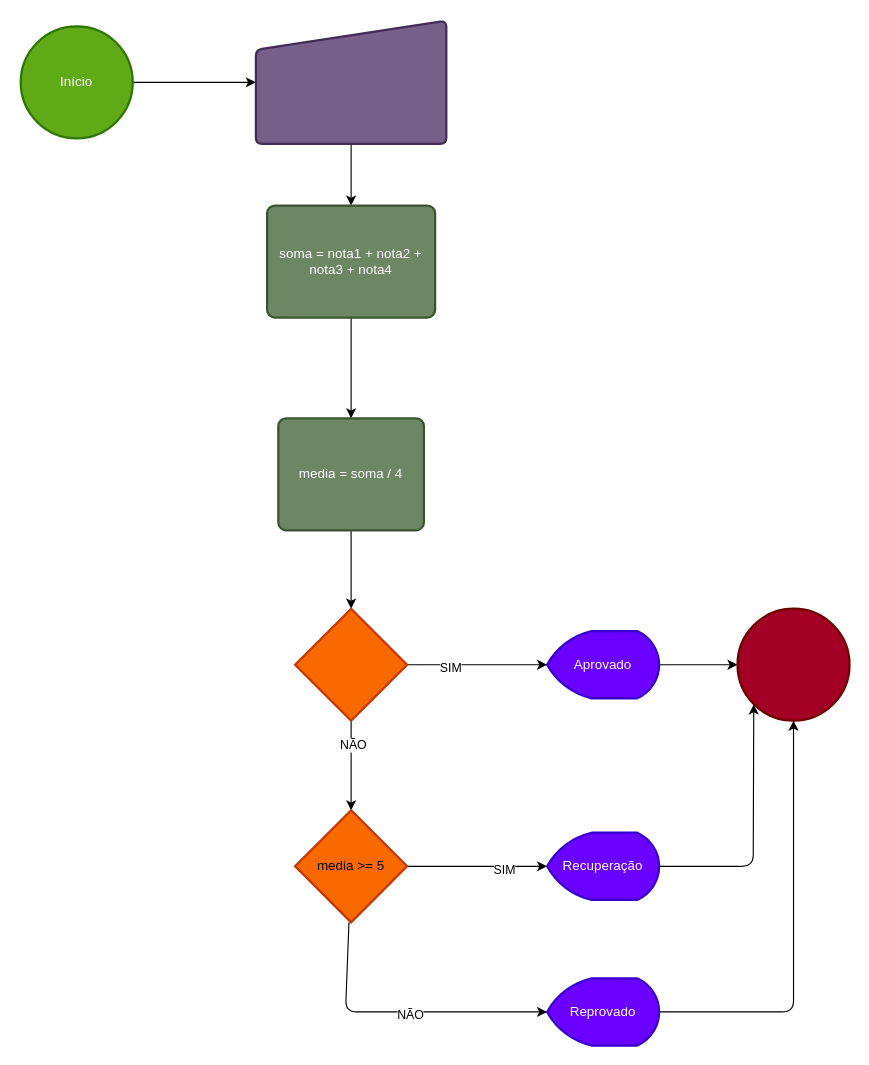
This 869x1065 diagram has some shape labels left out. The shapes that lost their labels are listed below. From the top down, each one's centre as x and y in pixels, then its label:
point (350, 81): nota1 = X nota2 = X nota3 = X nota4 = X
point (350, 664): media >= 7
point (793, 664): Fim
